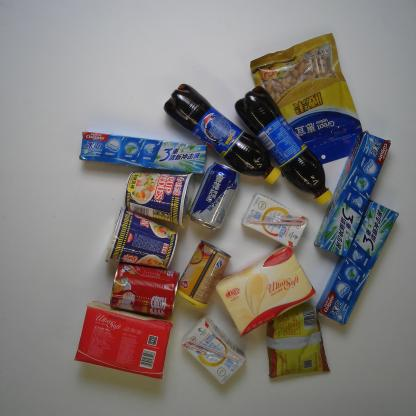Alcohol: (188, 160, 243, 232)
Canned Food: (109, 261, 180, 320), (176, 240, 232, 310)
Dried Fruit: (249, 31, 365, 178)
Drink: (163, 83, 282, 187), (234, 86, 334, 206)
Instant Noodles: (104, 206, 180, 269), (124, 170, 195, 230)
Milk: (180, 316, 246, 386), (242, 192, 310, 249)
Personal Hygiene: (316, 198, 400, 325), (312, 130, 391, 259), (78, 131, 209, 178)
Seasoner: (266, 302, 331, 380)
Tissue: (215, 245, 317, 338), (74, 300, 174, 380)
